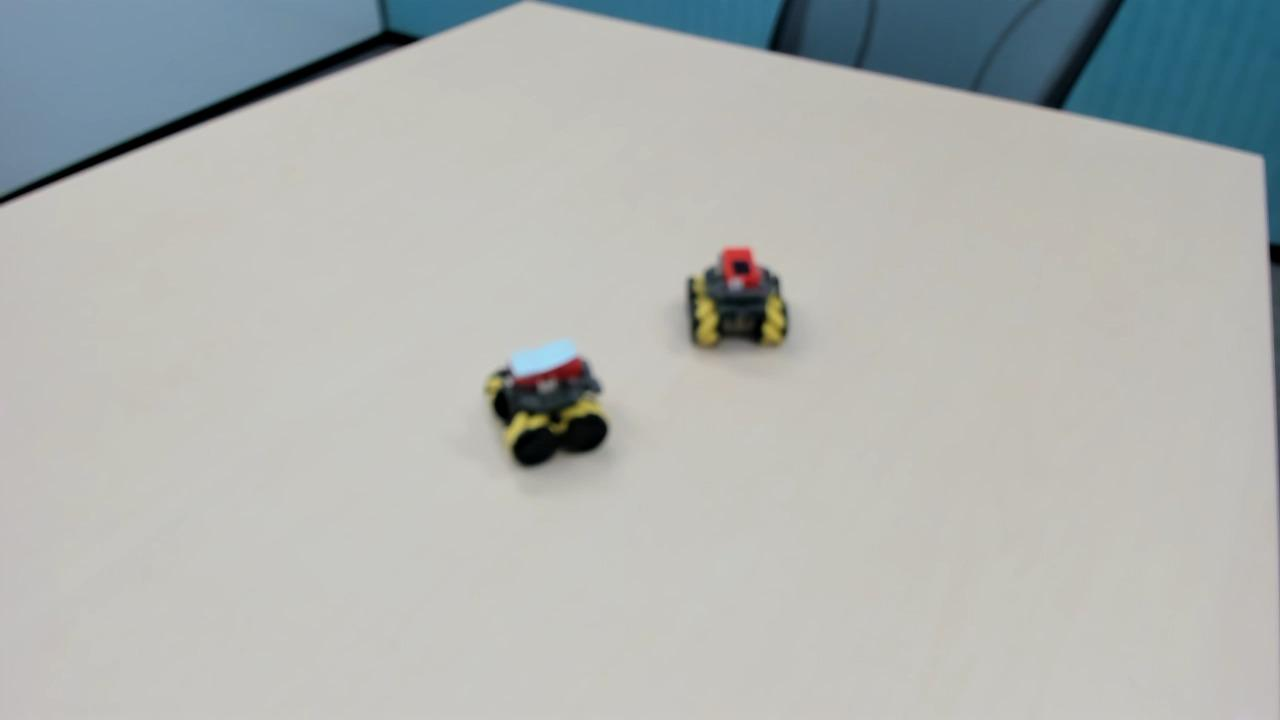B-Robot: (471, 330, 626, 494)
R-Robot: (671, 225, 809, 362)
